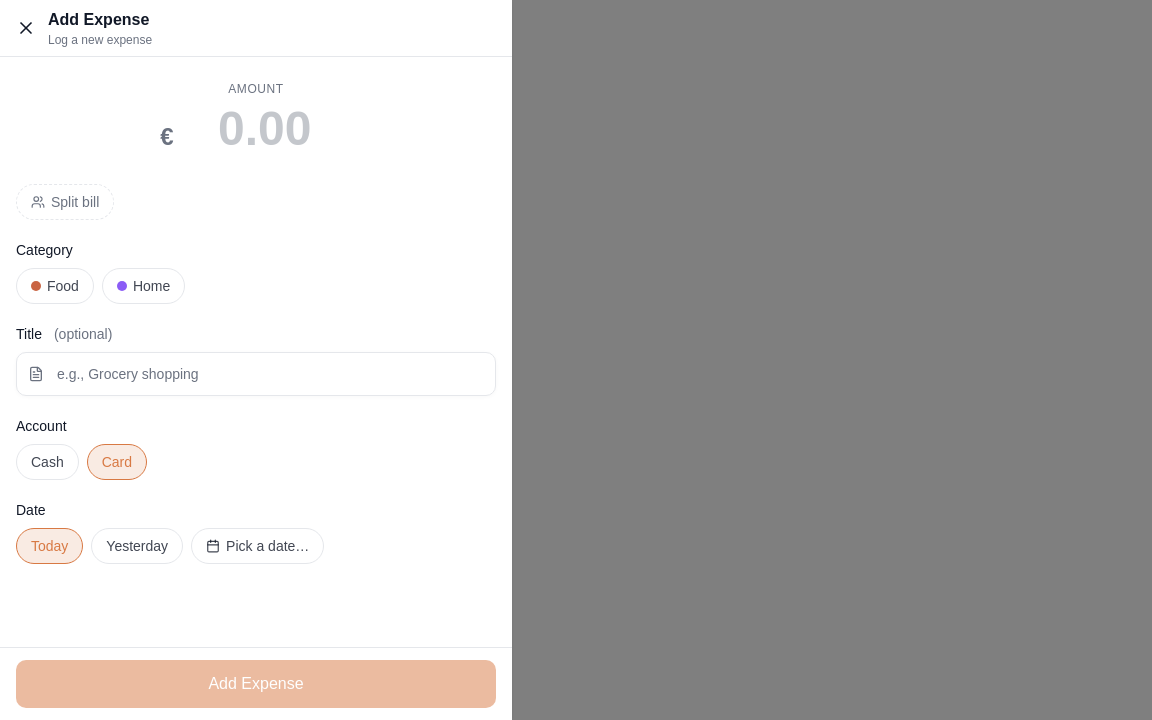
Test case: AddExpensePage › does not overwrite an already-typed amount when picking a suggestion
The width and height of the screenshot is (1152, 720).
Type "99" into the field labelled "Amount".
click(265, 128); type("99")  # box 178,101 -> 352,156
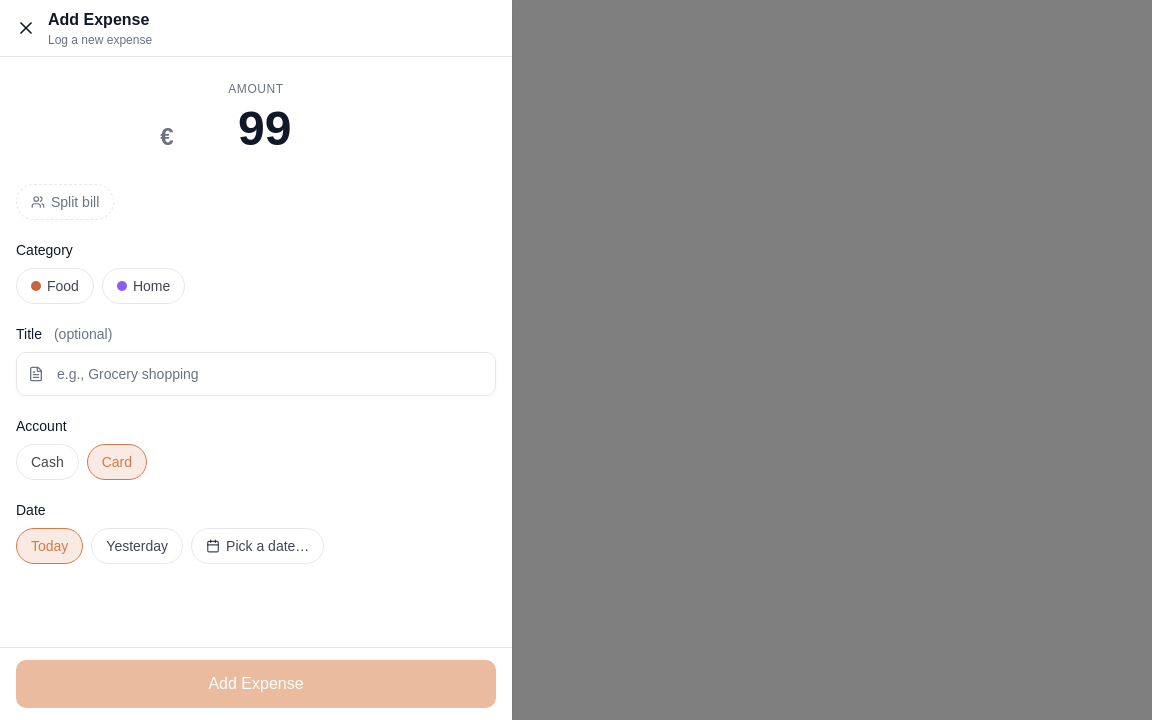
Type "Tak" into the dropdown labelled "Title (optional)".
click(256, 374); type("Tak")  # box 16,352 -> 496,396
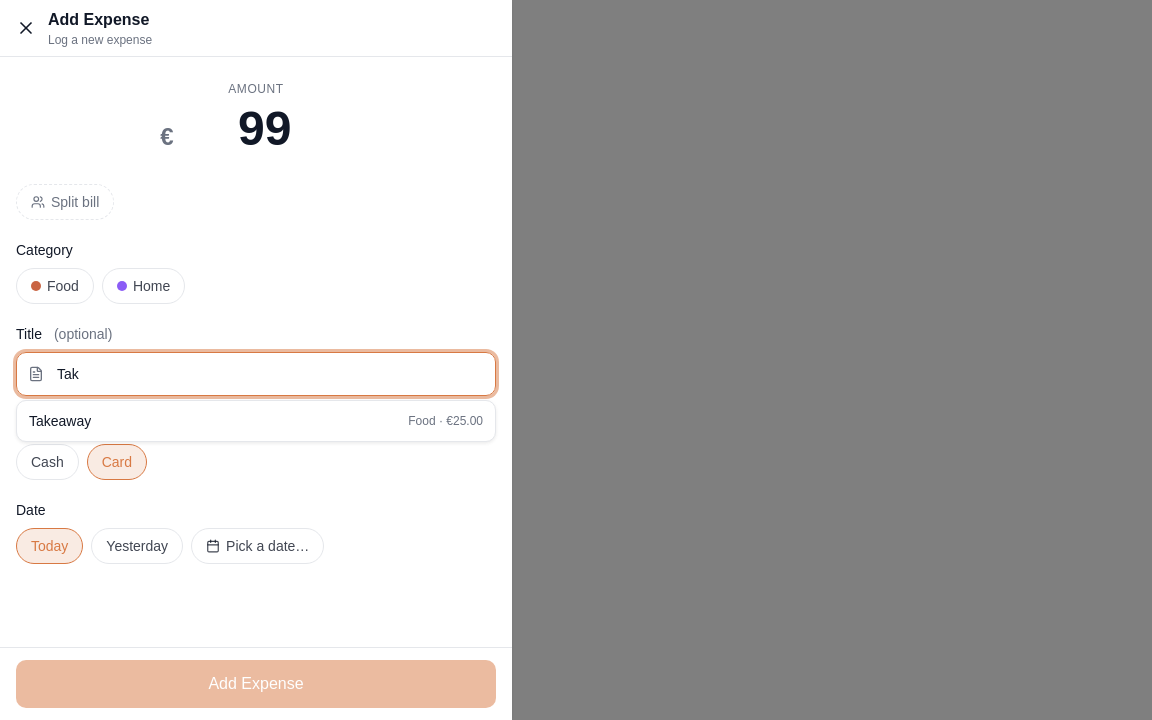
Click the option "Takeaway Food · €25.00".
click(60, 421)  # box 17,401 -> 495,441
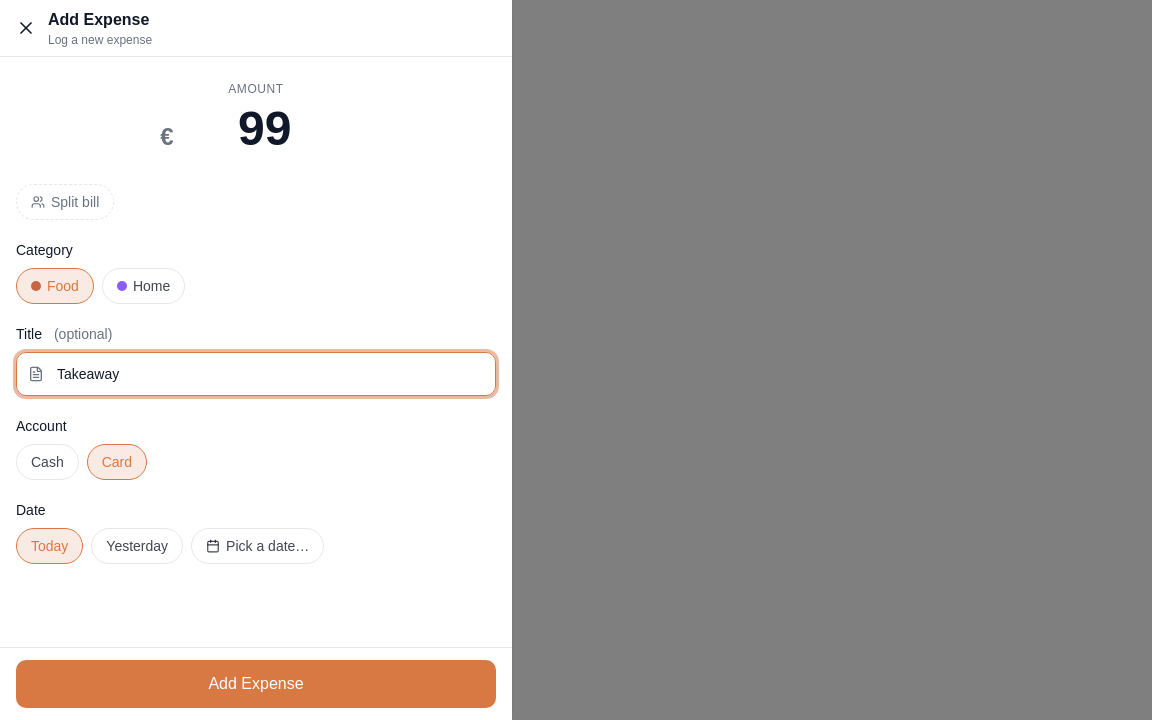
Expected: the dropdown labelled "Title (optional)" holds "Takeaway", 16,352 -> 496,396
